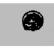correct: (20, 9, 46, 34)
